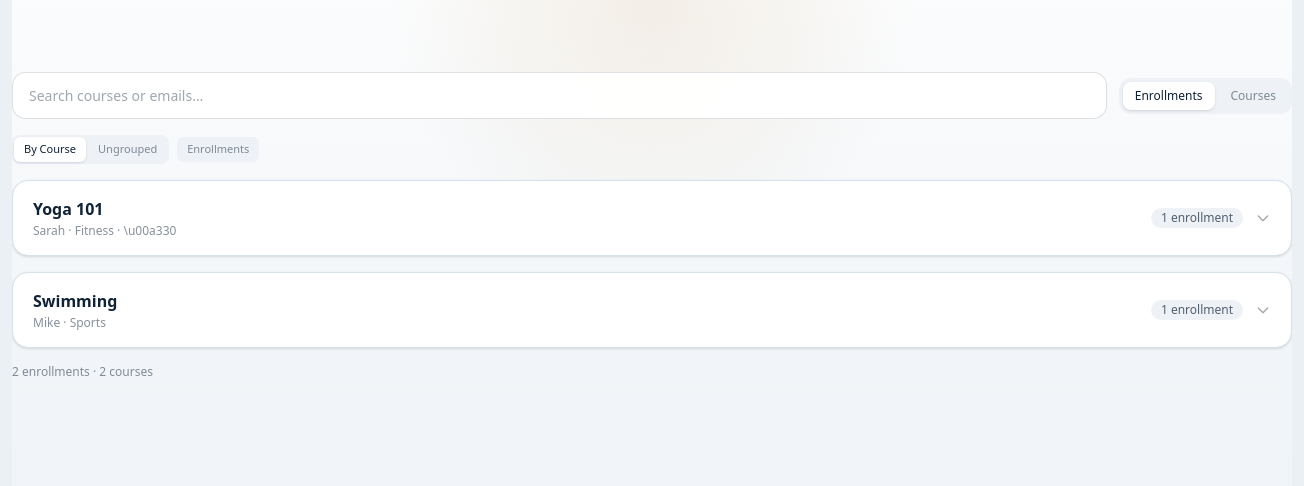
Test: CoursesTab › expands course group to show enrollments
The width and height of the screenshot is (1304, 486).
Click the text "Yoga 101".
click(68, 208)  # box [33,198,104,220]
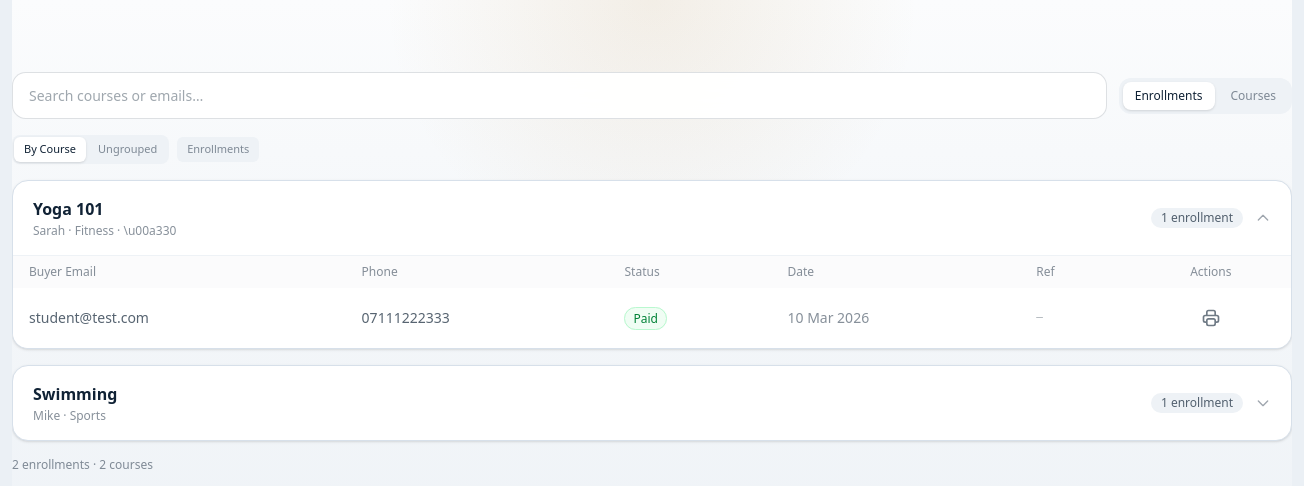
Now the text "student@test.com" is shown, box [13,288,346,348]
